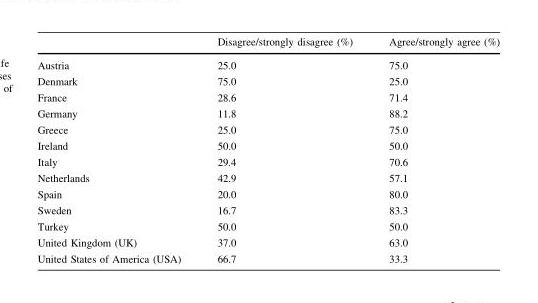table: (36, 36, 499, 263)
table column: (198, 36, 370, 263), (36, 36, 198, 263), (370, 36, 499, 263)
table column header: (36, 36, 499, 53)
table row: (36, 53, 499, 73), (36, 36, 499, 53), (36, 137, 499, 154), (36, 73, 499, 89), (36, 89, 499, 105), (36, 105, 499, 121), (36, 121, 499, 137), (36, 154, 499, 170), (36, 170, 499, 186), (36, 186, 499, 202), (36, 202, 499, 218), (36, 218, 499, 234), (36, 234, 499, 250), (36, 250, 499, 263)
